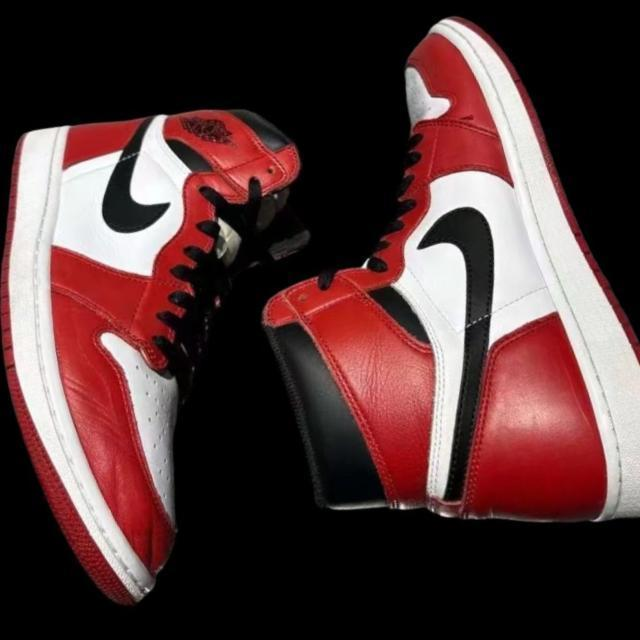nike original jordan 1: (203, 0, 640, 595), (0, 67, 393, 629)
